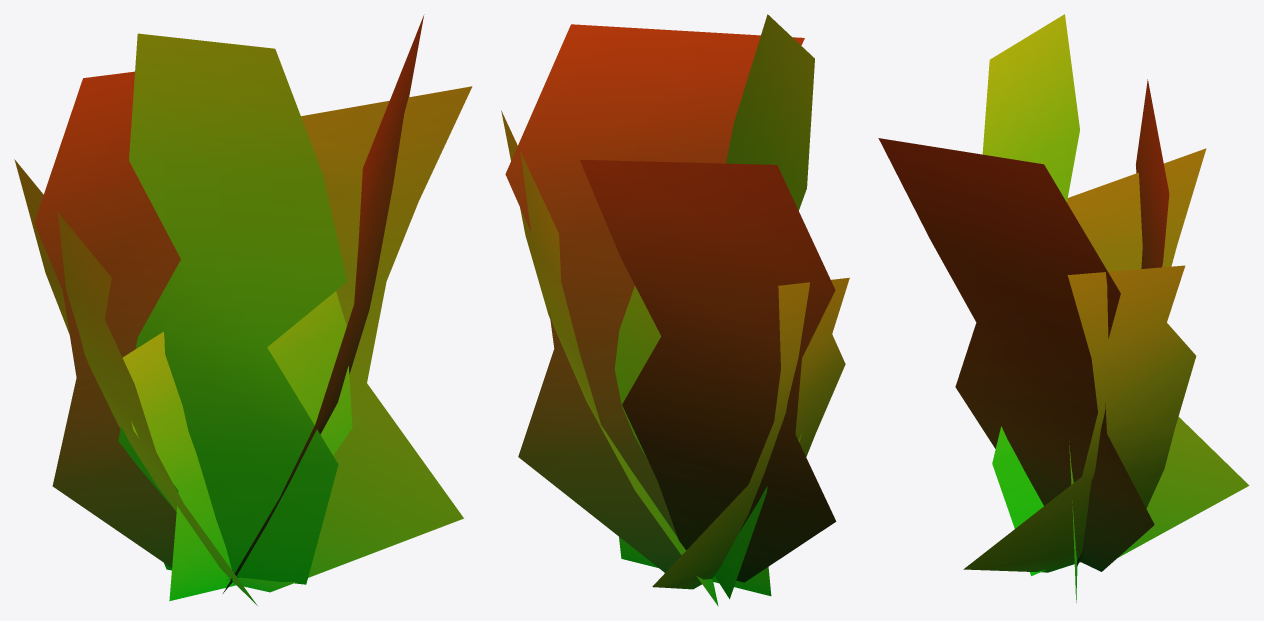
File: Var8Hi33.fbx
3 views of the same model, side by side, from view 1: azimuth 30°, elevation 25°; view 2: azimuth 150°, elevation 25°; view 3: azimuth 270°, elevation 25° (orthographic). The views are drawn at different scales.
Parts seen in each view (by area): view 1: bend1; view 2: bend1; view 3: bend1.
Part boxes in pixels (x1=…): bend1: x1=14, y1=14, x2=472, y2=605; bend1: x1=501, y1=14, x2=849, y2=606; bend1: x1=878, y1=14, x2=1249, y2=602.
Bounding box in the file's own units: 1.27 × 1.77 × 1.17.
